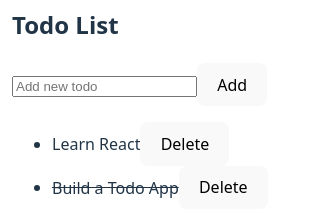
Test: TodoList Component › deletes a todo
Click the button with aria-label "delete-1" at (185, 144), box 140,122 -> 230,166
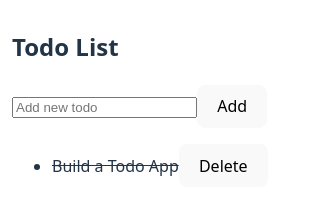
Now the list item "Learn React" is gone
